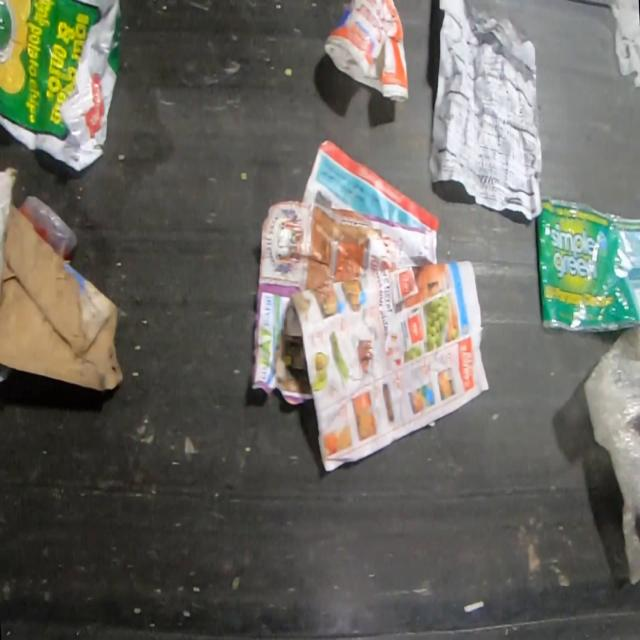cardboard: (0, 167, 124, 394)
rigid_plastic: (20, 194, 79, 256)
soft_plastic: (0, 0, 127, 175), (584, 328, 640, 582), (536, 197, 640, 330)
